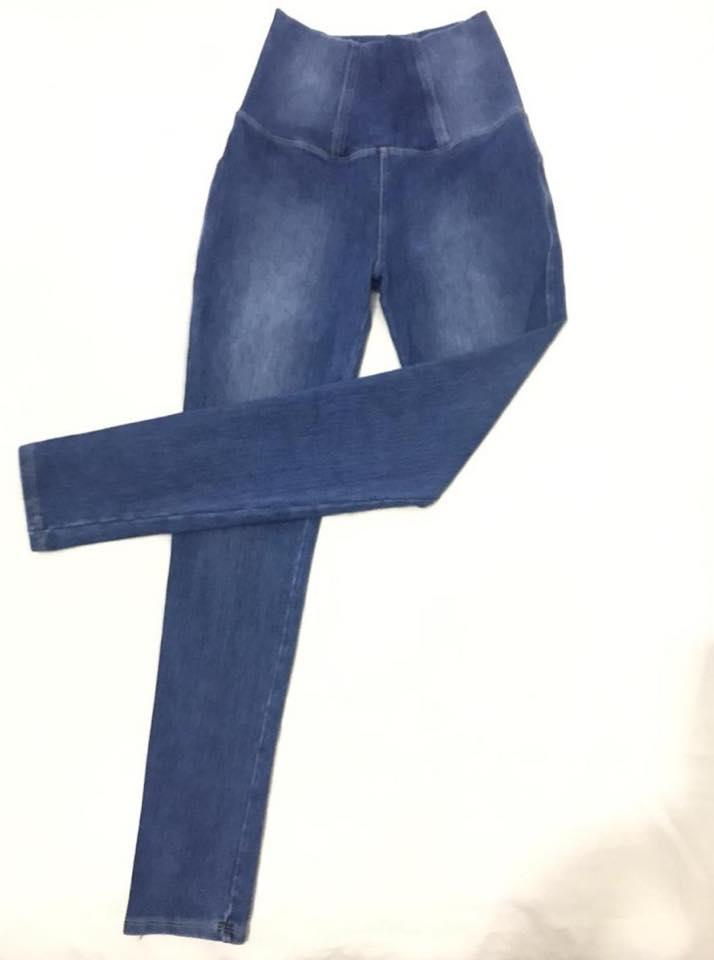Jeans: (0, 0, 577, 960)
